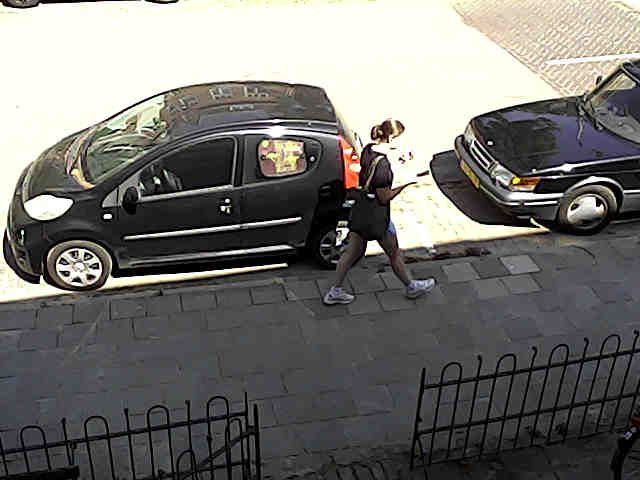male: (359, 119, 415, 207)
suv: (3, 82, 359, 289), (455, 61, 639, 233), (1, 0, 40, 7)
